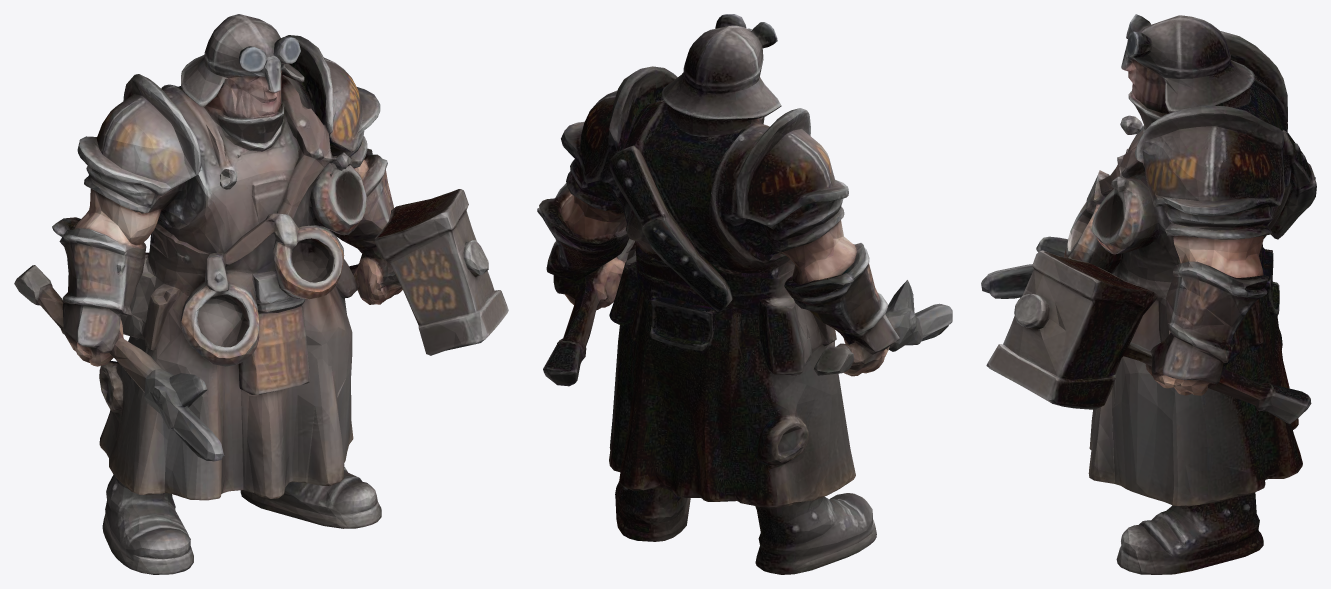
The model's file is collarSmith.glb.
3 views of the same model, side by side, from view 1: azimuth 30°, elevation 25°; view 2: azimuth 150°, elevation 25°; view 3: azimuth 270°, elevation 25° (orthographic). The views are drawn at different scales.
Parts seen in each view (by area): view 1: world; view 2: world; view 3: world.
Part boxes in pixels (<box>): world: <box>14,14,508,574</box>; world: <box>537,14,952,574</box>; world: <box>981,14,1316,574</box>.
Size of the model in its own units: 0.7698 by 1 by 0.6078.
Materials: 1 (1 with a texture image).
